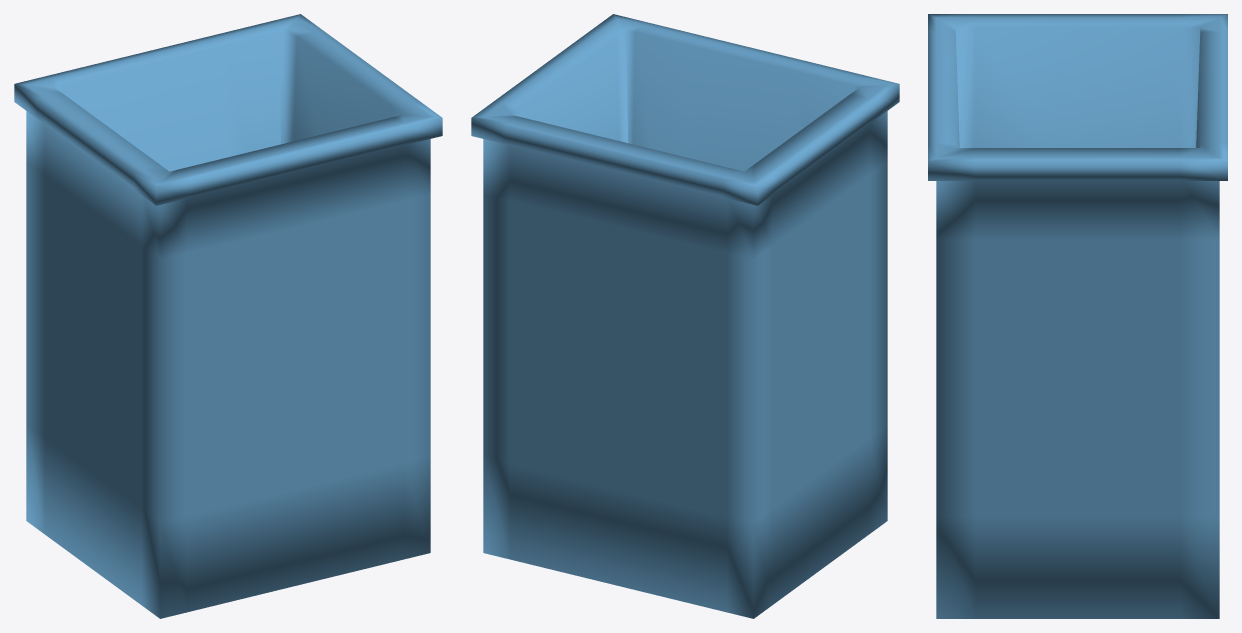
File: Hamper.fbx
The picture shows the model from 3 angles, left to right: view 1: azimuth 30°, elevation 25°; view 2: azimuth 150°, elevation 25°; view 3: azimuth 270°, elevation 25°; orthographic projection. The views are drawn at different scales.
Parts seen in each view (by area): view 1: TrashBin_LP; view 2: TrashBin_LP; view 3: TrashBin_LP.
Boxes of the visible parts, x1,y1,x2,y2 form: TrashBin_LP: (14, 14, 442, 618); TrashBin_LP: (471, 14, 899, 618); TrashBin_LP: (928, 14, 1227, 618).
Size of the model in its own units: 0.3764 by 0.5481 by 0.3229.
